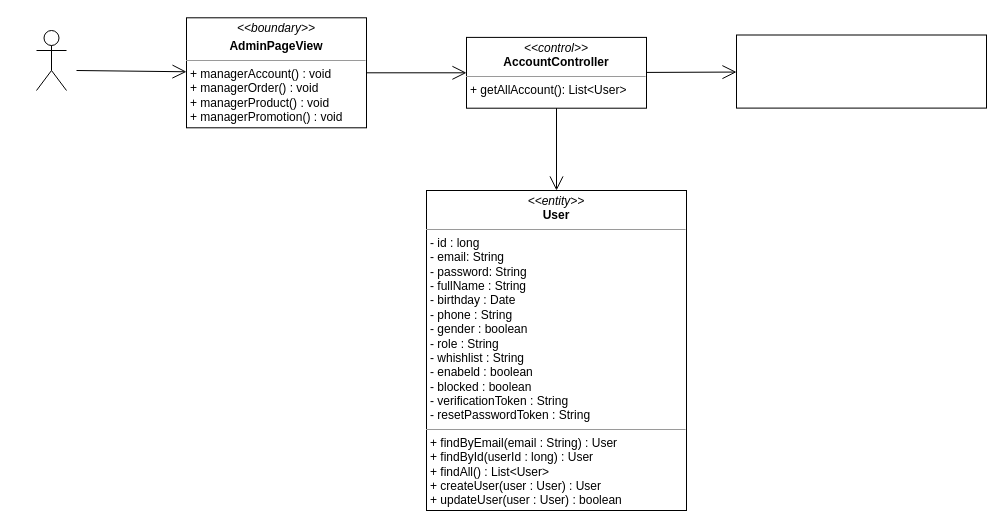
Image size: 1004x528. Some labels were removed from this diagram. The box of each missing label's shape, as (x1, y1, x2, y2) in pixels:
<<boundary>> ManagerAccountView + displayAllAcount(users : List<User>) : void: (736, 34, 986, 108)
Quản trị viên: (36, 30, 66, 90)
